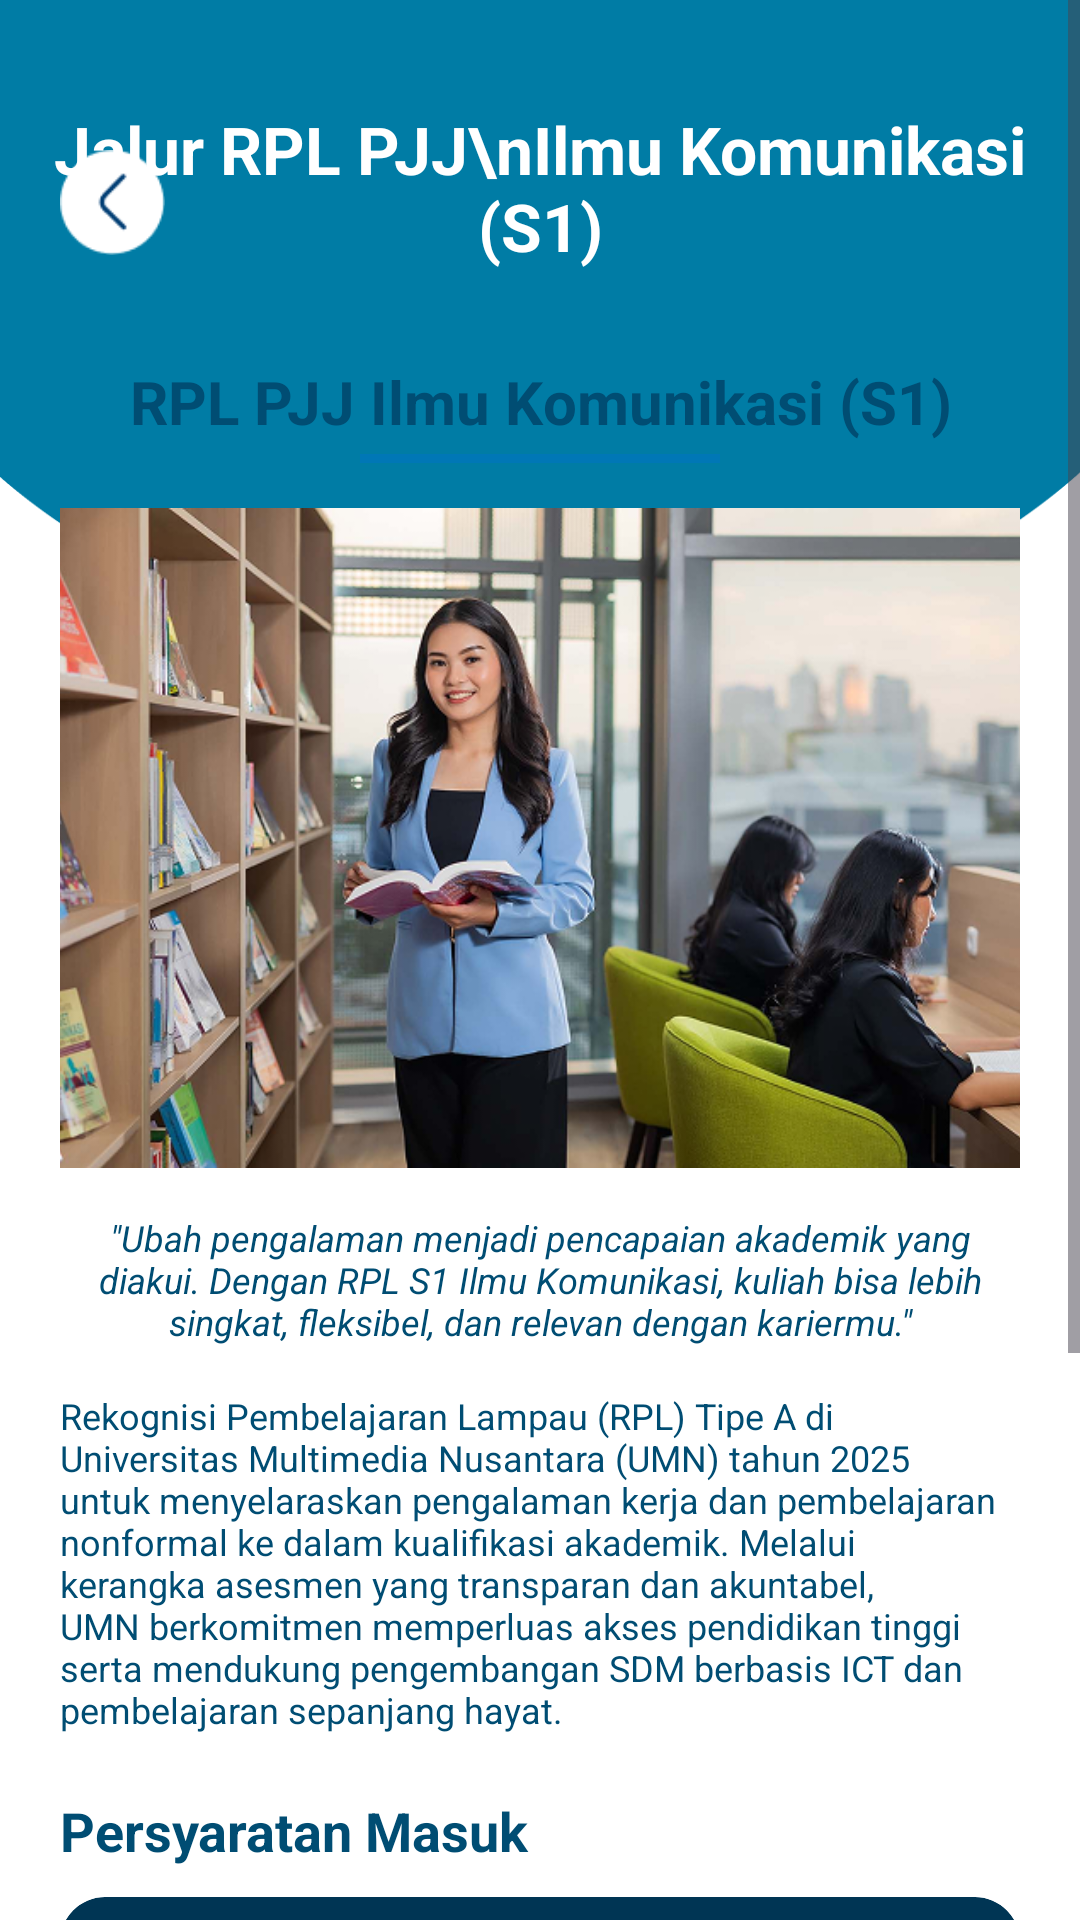

Icons on this 1080px×1920px Android screen, each with its box as (x1, y1, x2, y2):
back: (60, 150, 165, 255)
